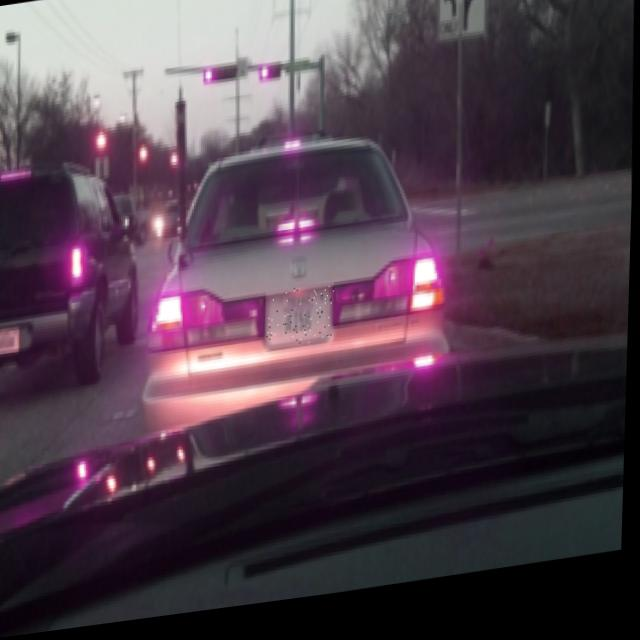license_plate: (266, 291, 336, 357)
